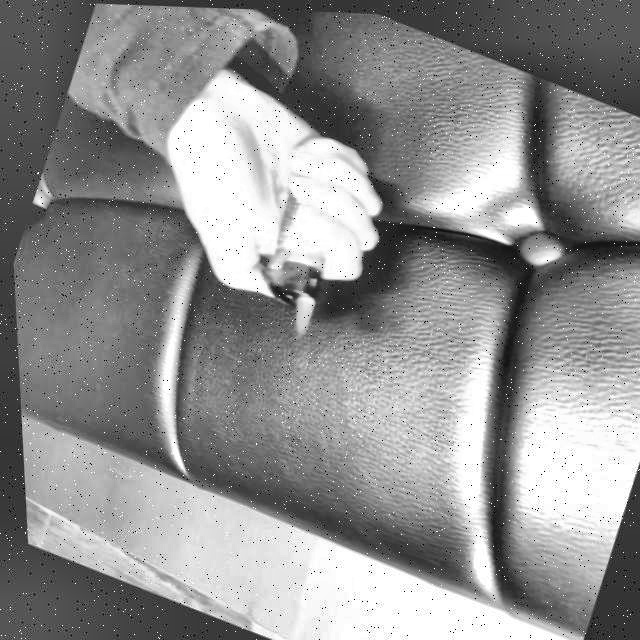Fire: (279, 287, 317, 337)
